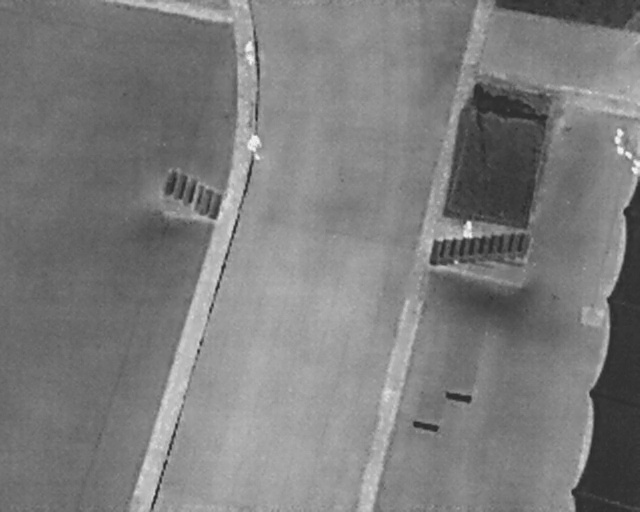Person: (244, 128, 265, 162), (240, 38, 258, 66), (462, 219, 474, 238)
